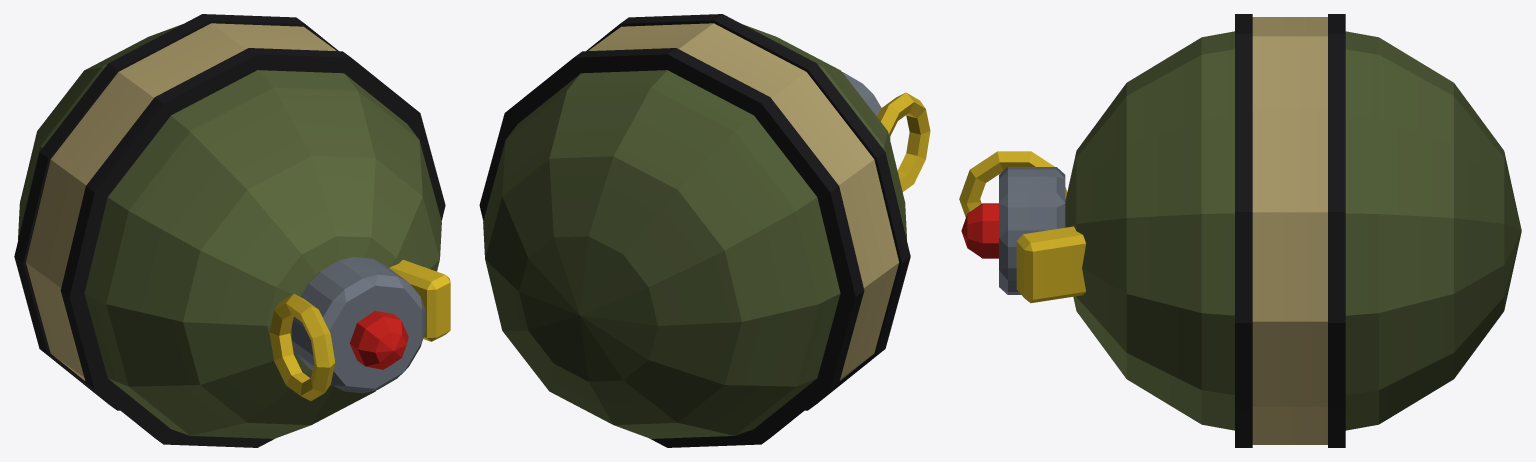
File: frag.glb
3 views of the same model, side by side, from view 1: azimuth 30°, elevation 25°; view 2: azimuth 150°, elevation 25°; view 3: azimuth 270°, elevation 25° (orthographic).
Parts seen in each view (by area): view 1: frag; view 2: frag; view 3: frag.
Part boxes in pixels (x1,y1,x2,y2): frag: (14, 14, 450, 447); frag: (479, 14, 930, 447); frag: (959, 14, 1521, 447).
Size of the model in its own units: 0.1966 by 0.1966 by 0.254.
